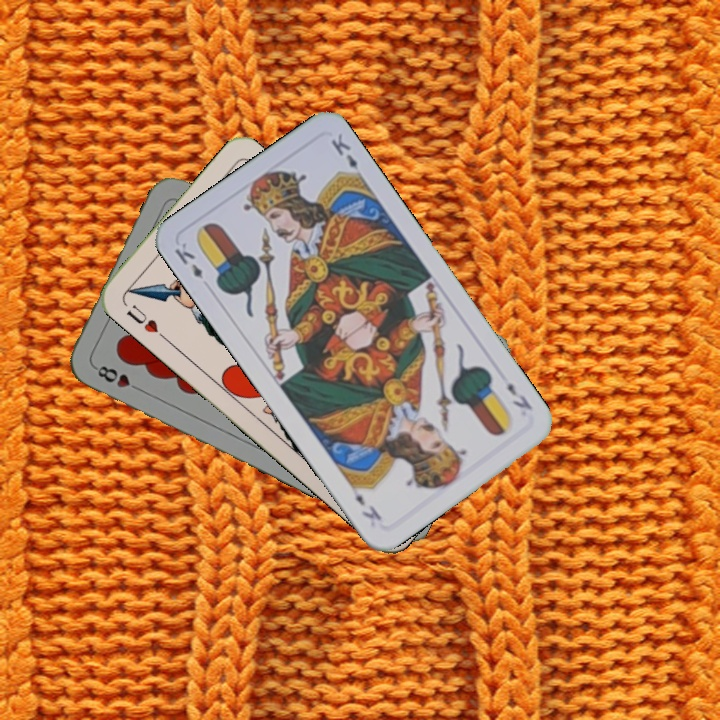EK: (170, 238, 206, 282), (502, 378, 535, 413)
H8: (90, 361, 145, 395)
HU: (122, 300, 169, 342)
